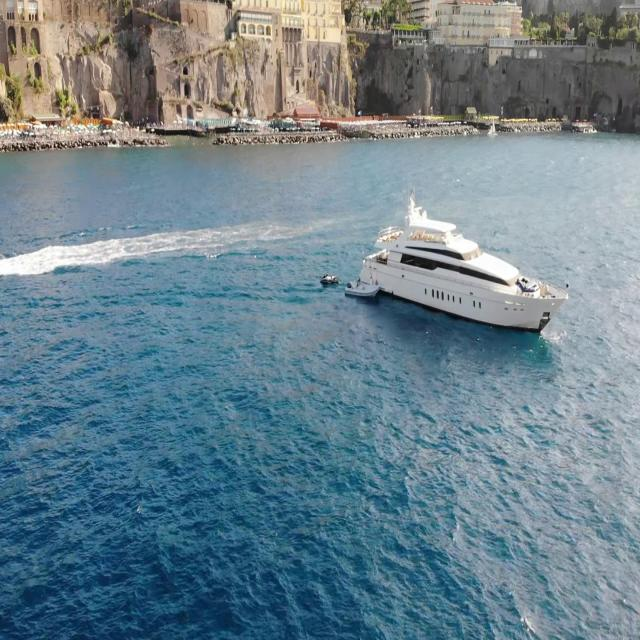boat: (360, 188, 572, 344), (346, 276, 378, 297), (323, 266, 339, 288)
